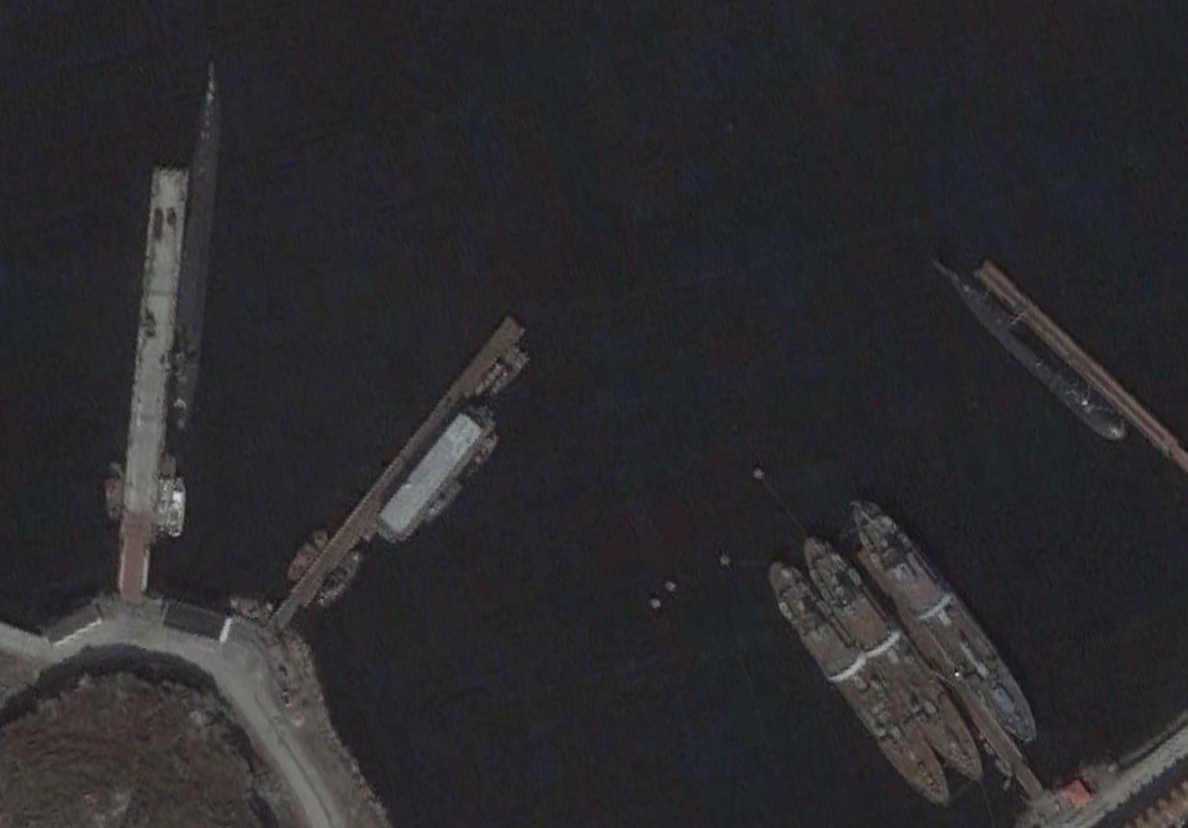merchant ship: (853, 496, 1038, 745), (802, 532, 985, 782), (767, 556, 950, 804), (316, 550, 359, 609), (285, 528, 330, 583), (152, 452, 176, 539), (425, 478, 462, 519), (490, 352, 525, 394), (102, 459, 124, 520), (467, 433, 495, 474), (167, 477, 185, 539)
submarine: (923, 250, 1127, 441), (167, 60, 220, 434)
